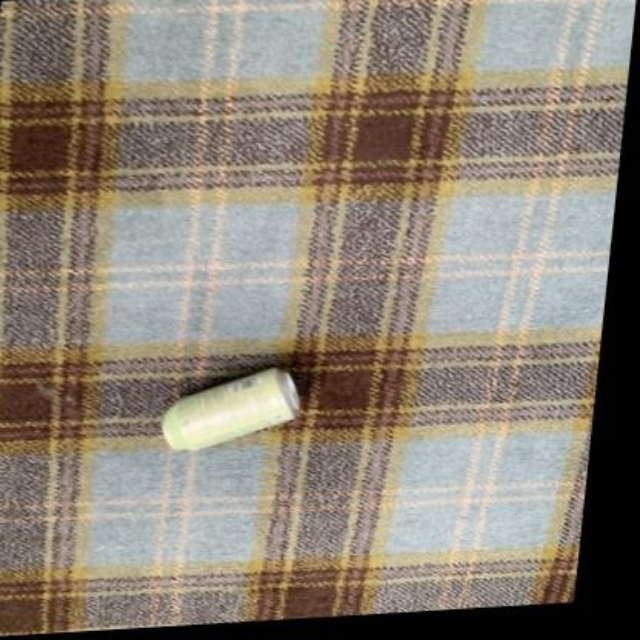trash: (162, 368, 298, 449)
